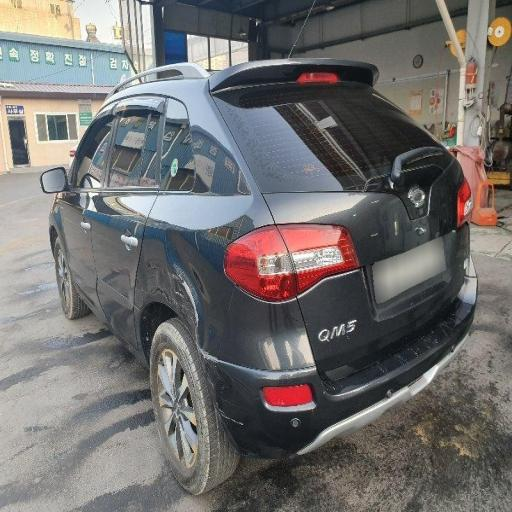dent: (68, 244, 142, 334)
scratch: (335, 128, 459, 246), (132, 257, 237, 341)
